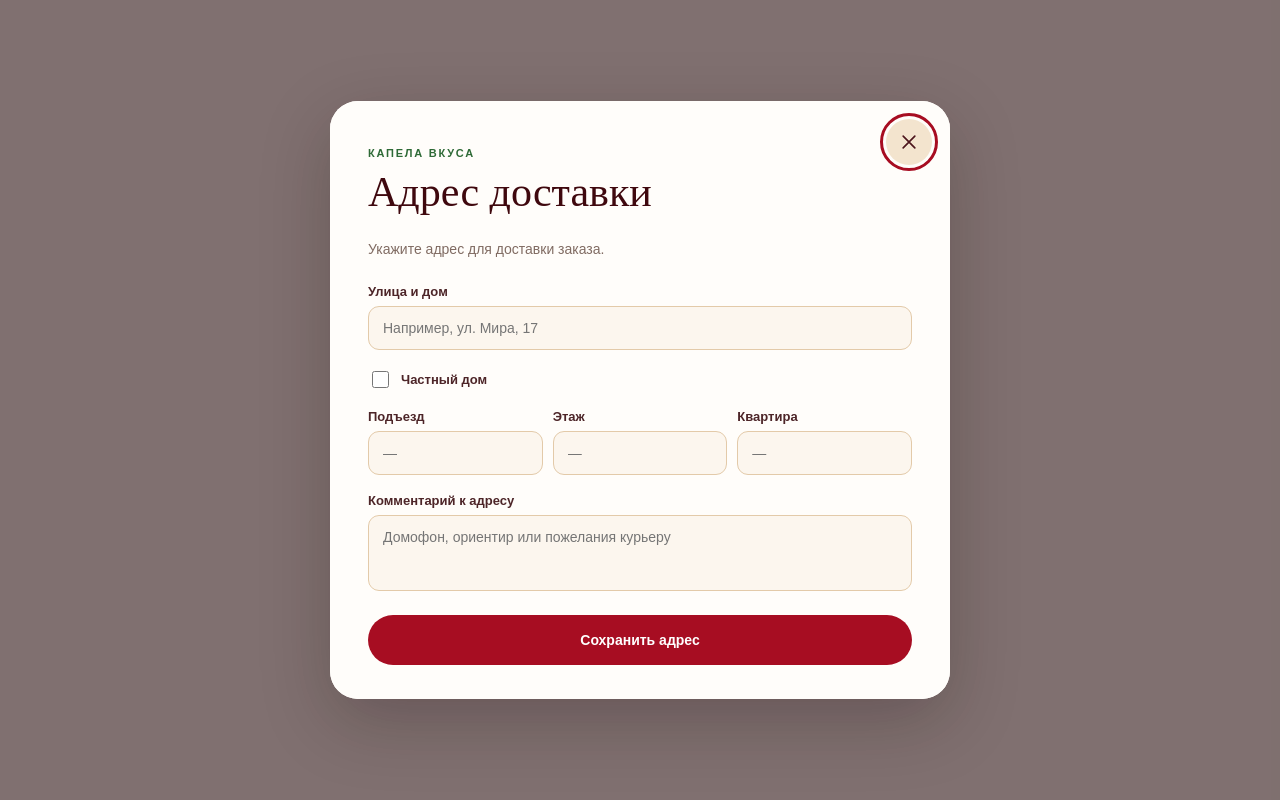
Test case: показывает ошибки обязательных полей при пустой форме доставки
Click the button "Сохранить адрес". click: click(640, 640)
box: [368,615,912,665]
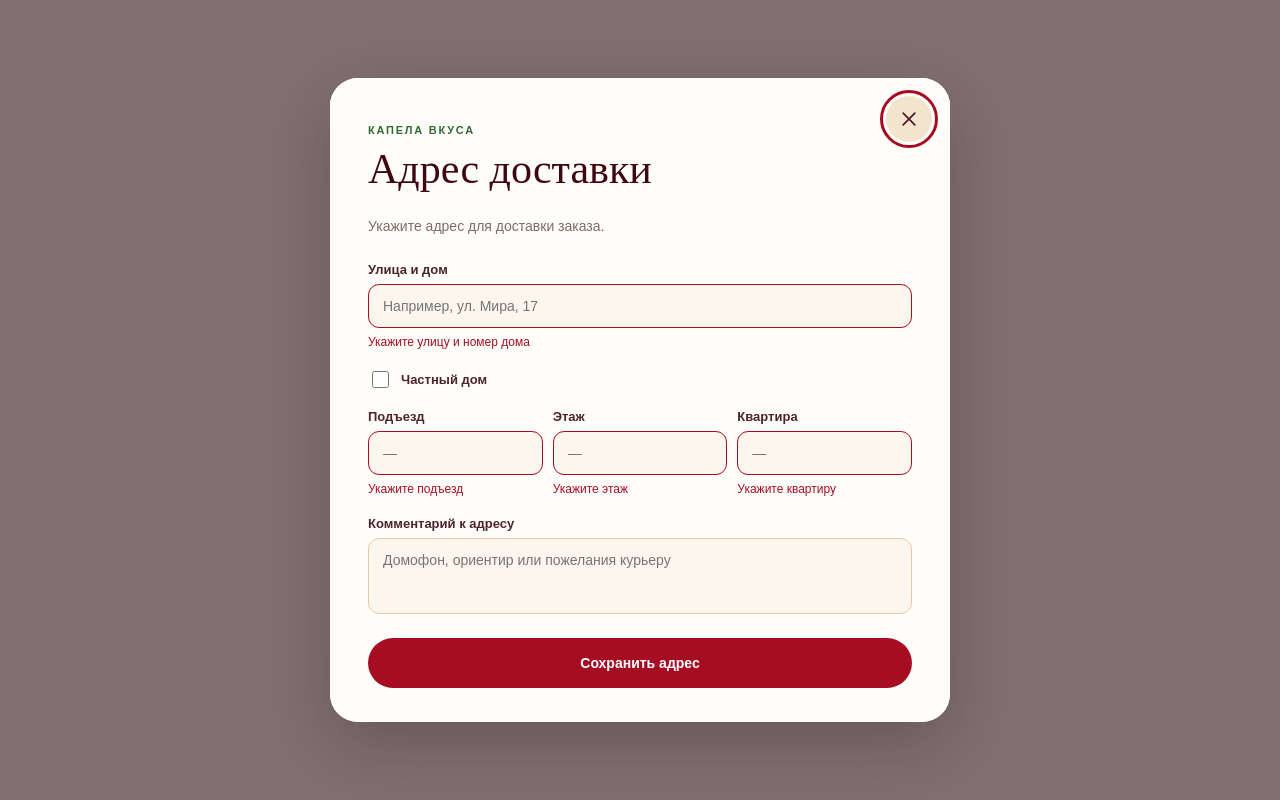
Result: the text "Укажите улицу и номер дома" is shown at [368,335,530,349]
Result: the text "Укажите подъезд" is shown at [368,482,463,496]
Result: the text "Укажите этаж" is shown at [553,482,628,496]
